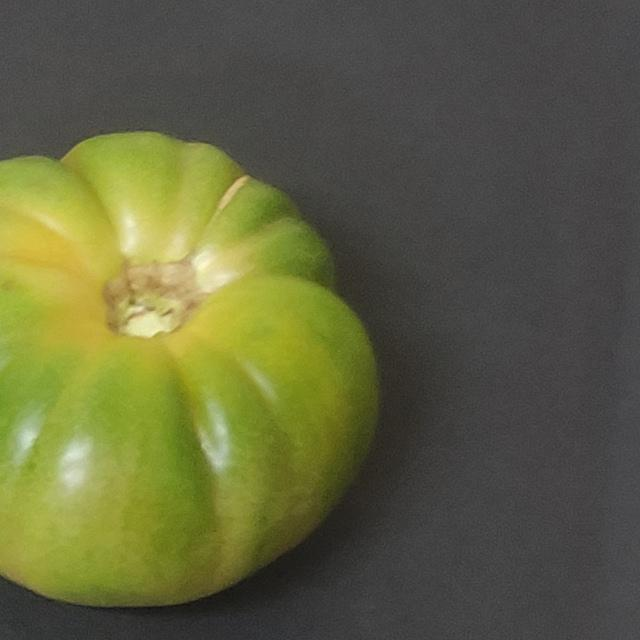tomato: (0, 84, 448, 640)
